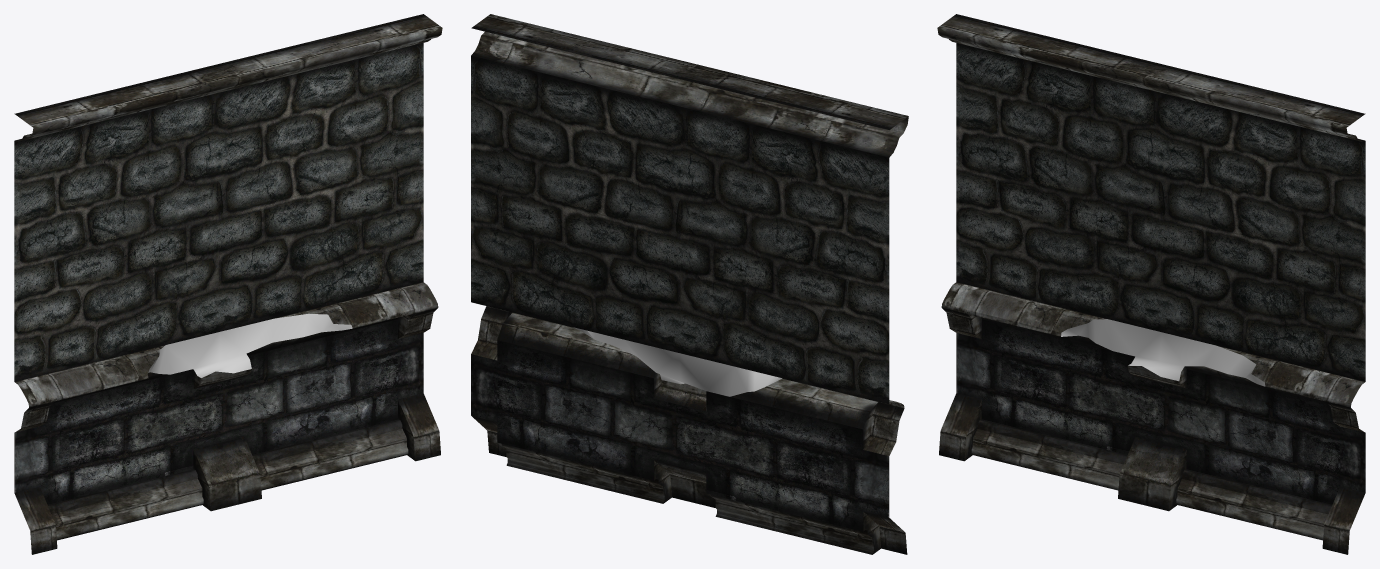
Rendered from default_broken01.dae.
3 renders of one model, left to right at view 1: azimuth 30°, elevation 25°; view 2: azimuth 150°, elevation 25°; view 3: azimuth 330°, elevation 25°, orthographic. The views are drawn at different scales.
Visible parts, largest first — view 1: polySurface134, polySurface133; view 2: polySurface134, polySurface133; view 3: polySurface134, polySurface133.
Part boxes in pixels (x1,y1,x2,y2): polySurface134: (14,14,442,554); polySurface133: (148,313,352,377); polySurface134: (471,14,908,554); polySurface133: (573,327,781,396); polySurface134: (937,14,1365,554); polySurface133: (1061,319,1265,386).
Size of what is drawn, in the model's own units: 4 by 4 by 0.3219.
